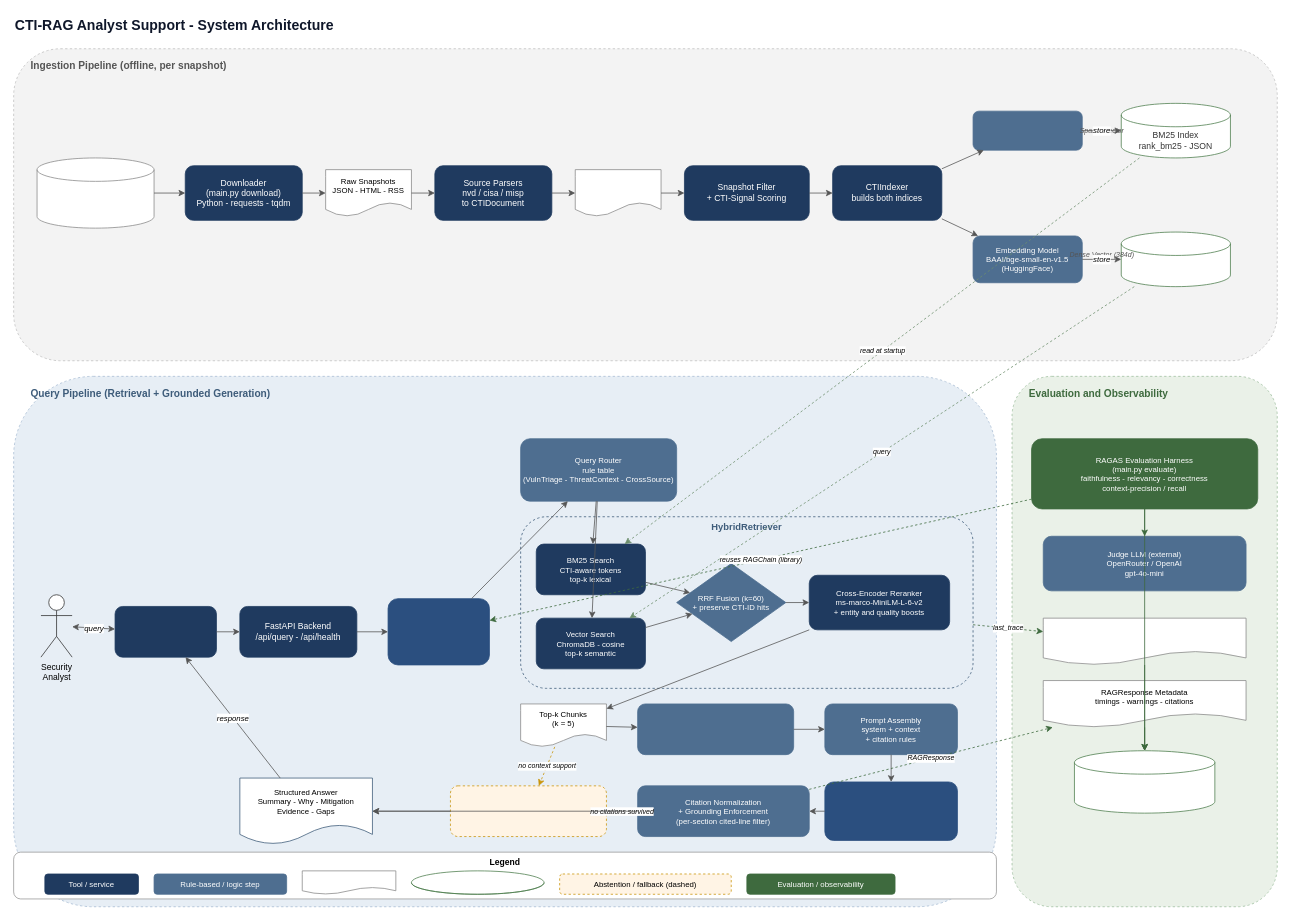
Image size: 1291x920. Some labels were removed from this diagram. The box of each missing label's shape, as (x1, y1, x2, y2) in pixels:
Abstention Response Summary - Missing reason: (450, 785, 606, 837)
CTI Knowledge Base NVD - CISA KEV CISA Advisories - MISP: (36, 157, 154, 228)
CTI-aware Tokenizer: (972, 110, 1082, 150)
CTIDocument (Pydantic schema): (574, 169, 661, 216)
Data artifact: (301, 870, 396, 894)
Evaluation Results Store JSON / CSV run artifacts: (1074, 750, 1215, 813)
Fact Bundle (L1) + Severity Signal deterministic from metadata: (637, 703, 794, 755)
Ollama Runtime Llama-3.1 8B-Instruct T = 0.1: (824, 781, 957, 840)
Persistent store / index: (411, 870, 544, 894)
RAGChain Orchestrator: (387, 598, 489, 665)
Retrieval Trace per-stage doc_ids and scores: (1042, 617, 1246, 665)
Streamlit Analyst Workbench: (114, 606, 216, 657)
Vector Store ChromaDB - cosine: (1120, 231, 1230, 287)
